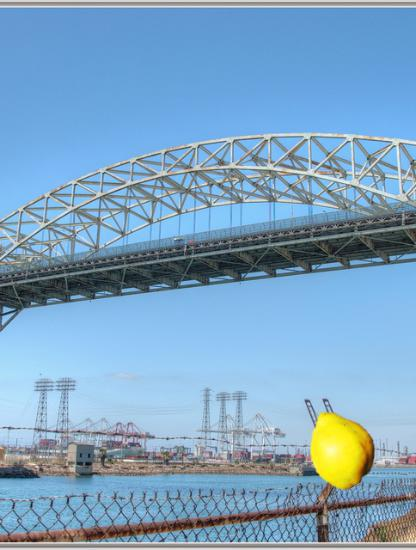Quince: (300, 408, 380, 488)
